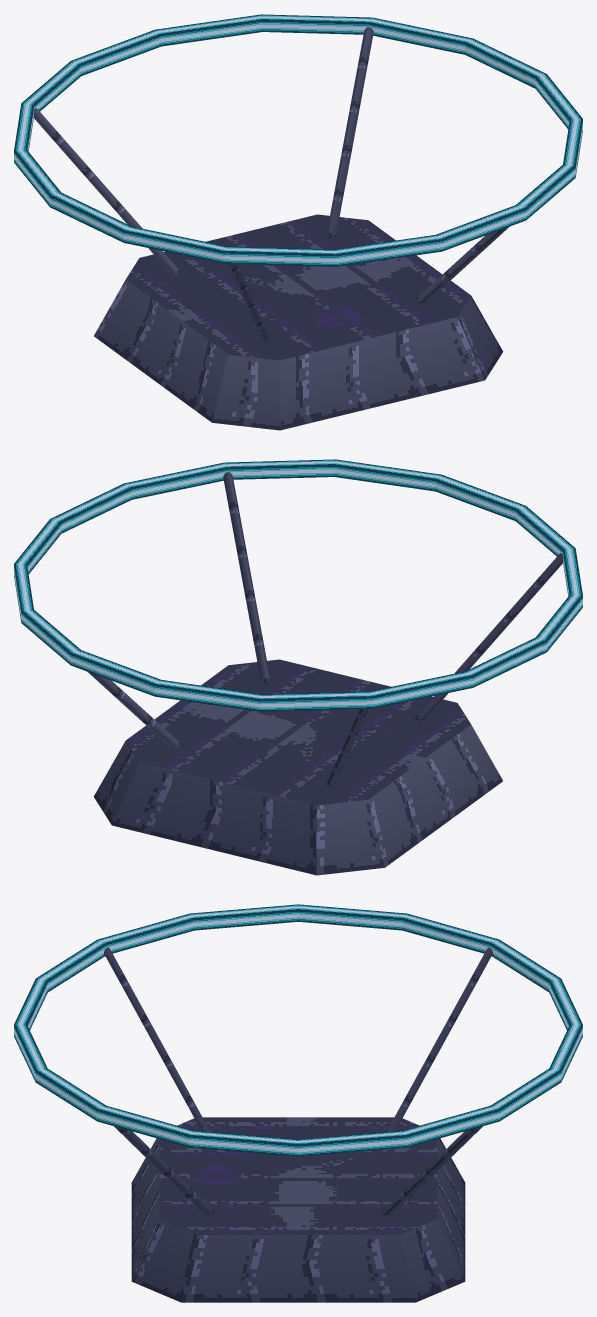
Rendered from cytower.crown.glb.
The picture shows the model from 3 angles, top to bottom: view 1: azimuth 30°, elevation 25°; view 2: azimuth 150°, elevation 25°; view 3: azimuth 270°, elevation 25°; orthographic projection.
Visible parts, largest first — view 1: kit_plinth, kit_halo; view 2: kit_plinth, kit_halo; view 3: kit_plinth, kit_halo.
Boxes of the visible parts, x1,y1,x2,y2 form: kit_plinth: (33, 27, 509, 430); kit_halo: (14, 14, 582, 266); kit_plinth: (87, 472, 563, 875); kit_halo: (14, 459, 582, 711); kit_plinth: (104, 947, 492, 1302); kit_halo: (14, 904, 582, 1156).
Bounding box in the file's own units: 9.21 × 3.71 × 9.21.
4 materials, 4 textured.
